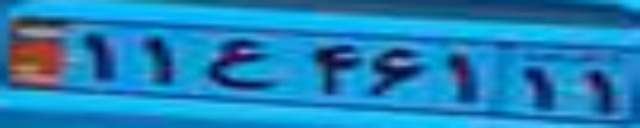1: (445, 52, 483, 103), (77, 31, 116, 80), (577, 68, 617, 114), (139, 35, 173, 84), (521, 67, 556, 110)
4: (309, 44, 364, 95)
6: (367, 47, 428, 95)
ain: (204, 37, 275, 91)
